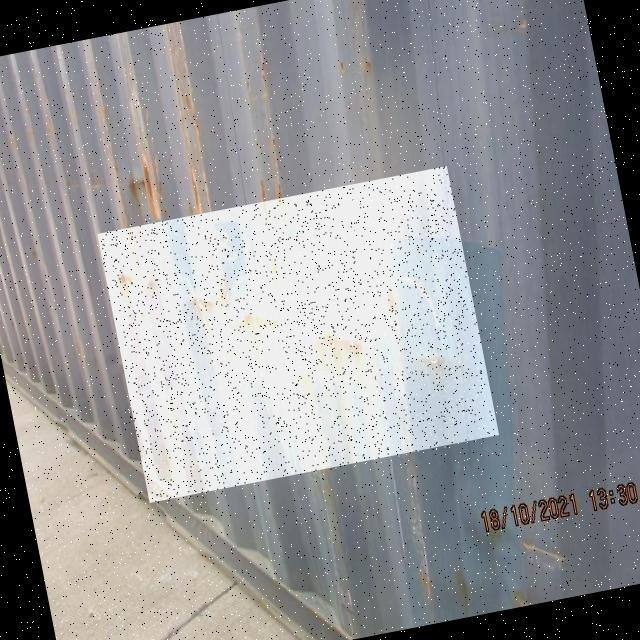Dent: (98, 167, 500, 506)
